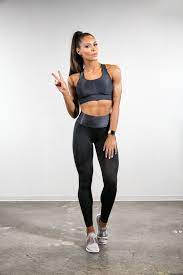face: (75, 37, 104, 61)
